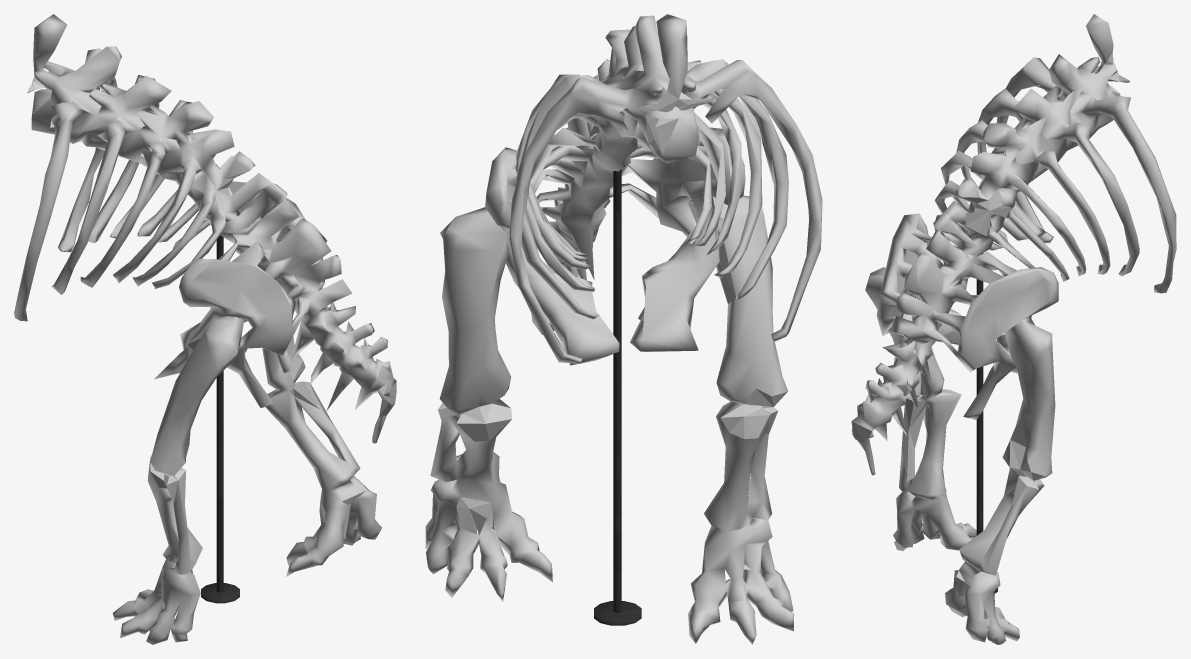
File: fossil12.fbx
The picture shows the model from 3 angles, left to right: view 1: azimuth 30°, elevation 25°; view 2: azimuth 150°, elevation 25°; view 3: azimuth 270°, elevation 25°; orthographic projection. The views are drawn at different scales.
Visible parts, largest first — view 1: Low_body__mFtrFossilBrachiosaurusC, pipe6__mFossilPole; view 2: Low_body__mFtrFossilBrachiosaurusC, pipe6__mFossilPole; view 3: Low_body__mFtrFossilBrachiosaurusC, pipe6__mFossilPole.
Part boxes in pixels (<box>): Low_body__mFtrFossilBrachiosaurusC: <box>14,14,396,644</box>; pipe6__mFossilPole: <box>201,235,239,603</box>; Low_body__mFtrFossilBrachiosaurusC: <box>425,14,822,644</box>; pipe6__mFossilPole: <box>594,169,641,625</box>; Low_body__mFtrFossilBrachiosaurusC: <box>851,14,1176,644</box>; pipe6__mFossilPole: <box>976,253,997,593</box>.
Size of the model in its own units: 276 by 434 by 245.
